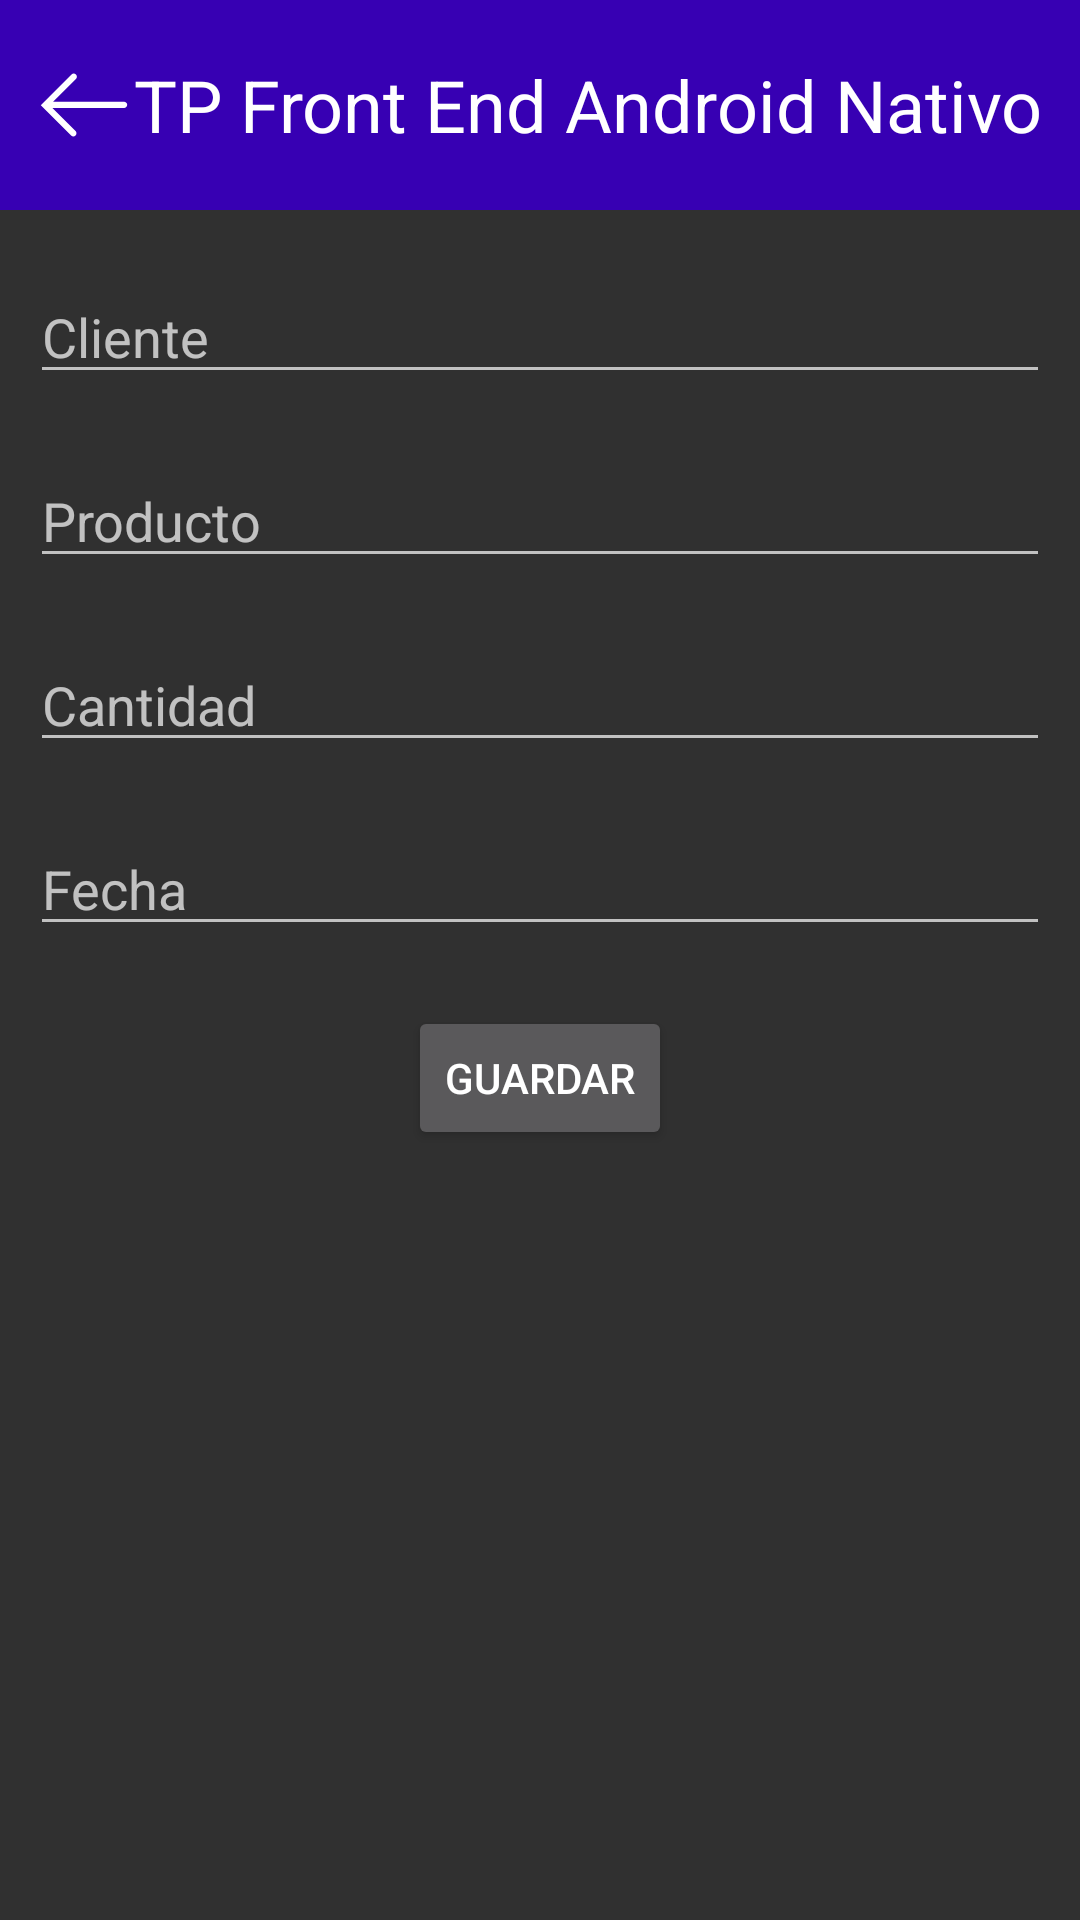

Icons on this 1080px x 1920px Android screen, each with the point to tap as (x=x, y=y):
arrow: (x=84, y=105)
